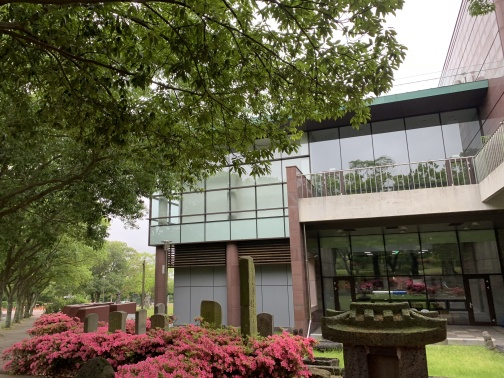Museum: (146, 82, 501, 344)
